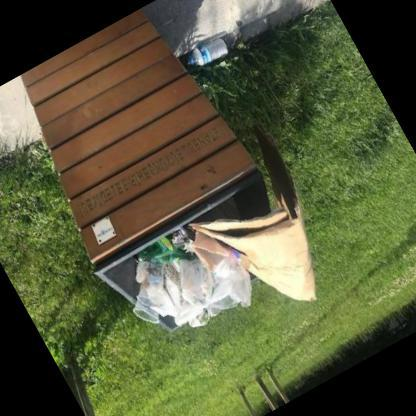Garbage: (107, 167, 347, 381), (172, 115, 358, 329), (103, 203, 264, 357), (154, 242, 268, 343), (122, 258, 180, 314), (134, 221, 189, 267), (200, 284, 223, 306)
